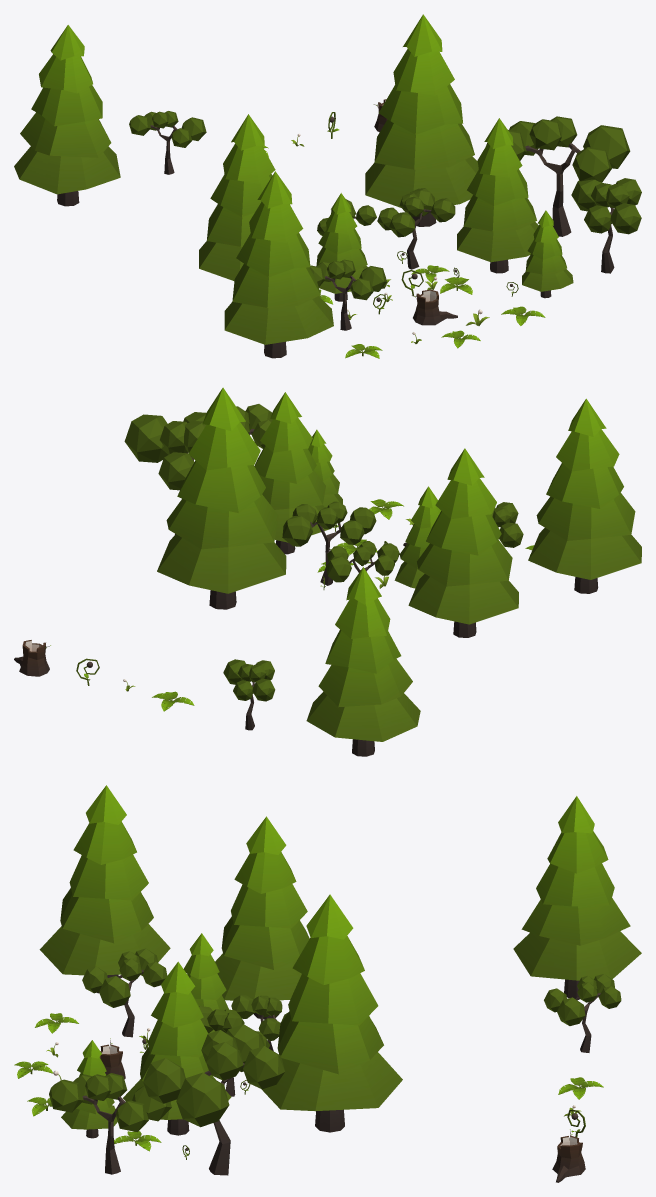
Rendered from forest.obj.
The picture shows the model from 3 angles, top to bottom: view 1: azimuth 30°, elevation 25°; view 2: azimuth 150°, elevation 25°; view 3: azimuth 270°, elevation 25°; orthographic projection. The views are drawn at different scales.
Visible parts, largest first — view 1: object 7, object 5, object 33, object 9, object 11, tree_b.002_tree_b_m_0, tree_b.001_tree_b_m_0, object 10, object 8, tree_b.004_tree_b_m_0, tree_b.005_tree_b_m_0, object 34 (+2 smaller); view 2: object 7, object 5, object 11, object 33, object 9, tree_b.002_tree_b_m_0, tree_b.004_tree_b_m_0, object 10, object 34, tree_b.003_tree_b_m_0, object 8, tree_b.005_tree_b_m_0 (+2 smaller); view 3: object 7, object 33, object 5, object 11, tree_b.002_tree_b_m_0, object 9, tree_b.001_tree_b_m_0, tree_b.005_tree_b_m_0, object 34, object 10, object 8, tree_b.003_tree_b_m_0 (+3 smaller).
Boxes of the visible parts, bbox=[...] form: object 7: bbox=[365, 14, 478, 226]; object 5: bbox=[224, 171, 333, 358]; object 33: bbox=[14, 25, 120, 206]; object 9: bbox=[457, 118, 538, 273]; object 11: bbox=[199, 114, 275, 280]; tree_b.002_tree_b_m_0: bbox=[486, 116, 630, 236]; tree_b.001_tree_b_m_0: bbox=[571, 178, 641, 273]; object 10: bbox=[316, 193, 367, 301]; object 8: bbox=[522, 210, 573, 298]; tree_b.004_tree_b_m_0: bbox=[377, 188, 455, 269]; tree_b.005_tree_b_m_0: bbox=[309, 259, 387, 330]; object 34: bbox=[129, 111, 206, 174]; object 7: bbox=[157, 387, 286, 609]; object 5: bbox=[528, 398, 641, 593]; object 11: bbox=[408, 448, 518, 637]; object 33: bbox=[306, 567, 420, 756]; object 9: bbox=[254, 392, 331, 554]; tree_b.002_tree_b_m_0: bbox=[124, 412, 206, 534]; tree_b.004_tree_b_m_0: bbox=[282, 501, 376, 585]; object 10: bbox=[394, 486, 440, 588]; object 34: bbox=[223, 659, 275, 730]; tree_b.003_tree_b_m_0: bbox=[326, 541, 399, 582]; object 8: bbox=[308, 429, 342, 507]; tree_b.005_tree_b_m_0: bbox=[491, 502, 523, 547]; object 7: bbox=[261, 894, 402, 1132]; object 33: bbox=[513, 796, 641, 998]; object 5: bbox=[39, 785, 170, 993]; object 11: bbox=[215, 816, 309, 1019]; tree_b.002_tree_b_m_0: bbox=[143, 1024, 284, 1175]; object 9: bbox=[123, 961, 231, 1135]; tree_b.001_tree_b_m_0: bbox=[49, 1073, 171, 1174]; tree_b.005_tree_b_m_0: bbox=[82, 948, 167, 1037]; object 34: bbox=[544, 974, 621, 1052]; object 10: bbox=[183, 933, 228, 1033]; object 8: bbox=[61, 1040, 117, 1138]; tree_b.003_tree_b_m_0: bbox=[231, 995, 288, 1050].
Size of the model in its own units: 4.27 by 1.93 by 4.66.
4 materials, 4 textured.
